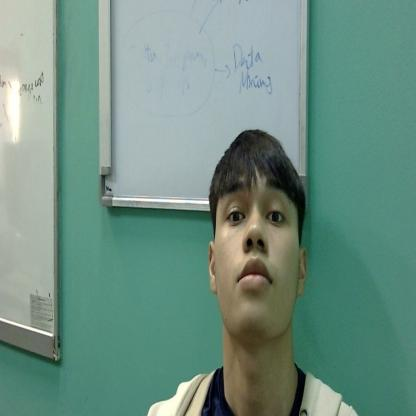Open-Eyes: (216, 175, 290, 235)
